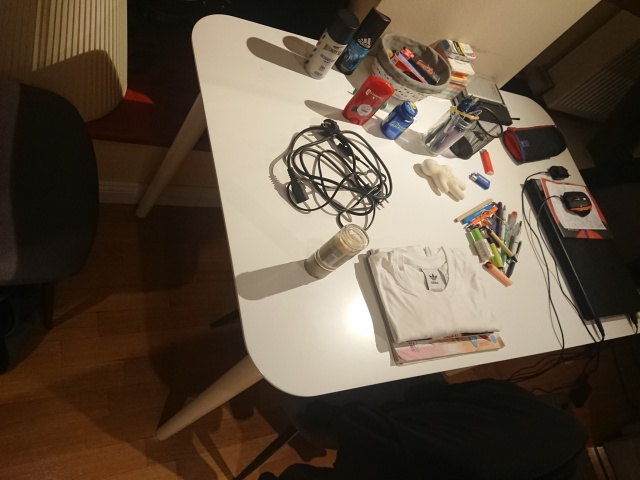Kotanyi Garlic Granules 70g: (303, 222, 371, 282)
